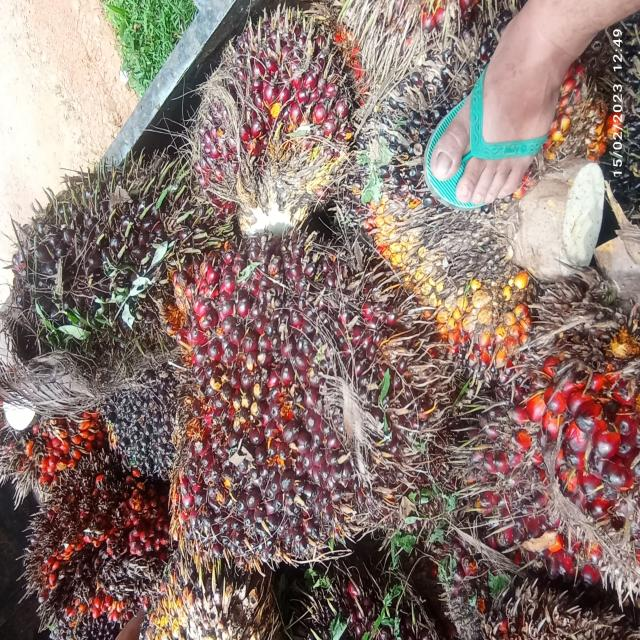fraksi 00: (324, 35, 620, 412), (0, 141, 238, 394), (89, 374, 218, 491)
fraksi 1: (143, 239, 455, 571), (183, 7, 369, 264), (468, 338, 640, 579)
fraksi 4: (13, 462, 183, 640), (22, 406, 101, 476)
